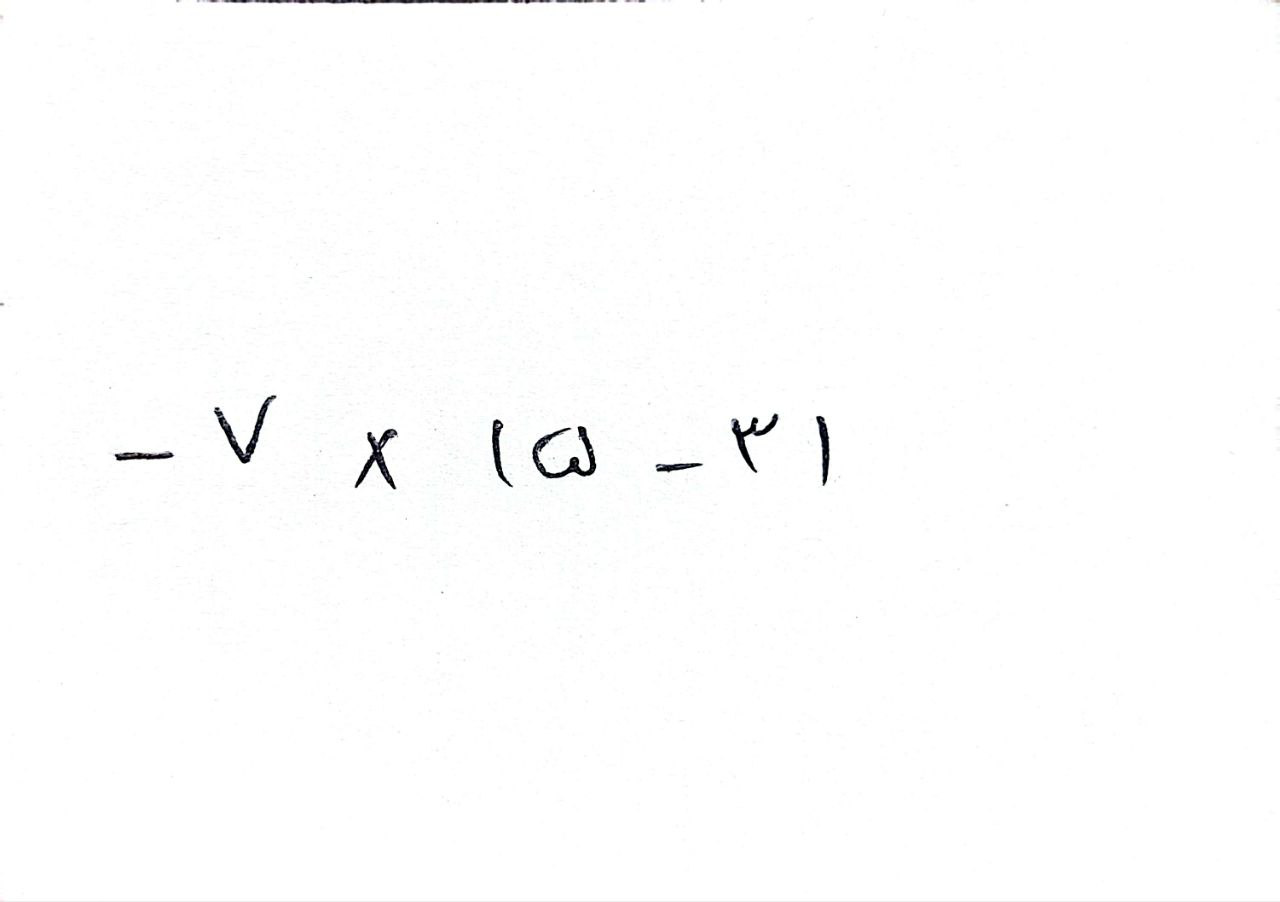character: (213, 393, 279, 466), (529, 423, 601, 482), (727, 412, 782, 476), (352, 428, 399, 492), (489, 420, 514, 490), (815, 409, 835, 485), (654, 457, 705, 481), (112, 447, 175, 465)
